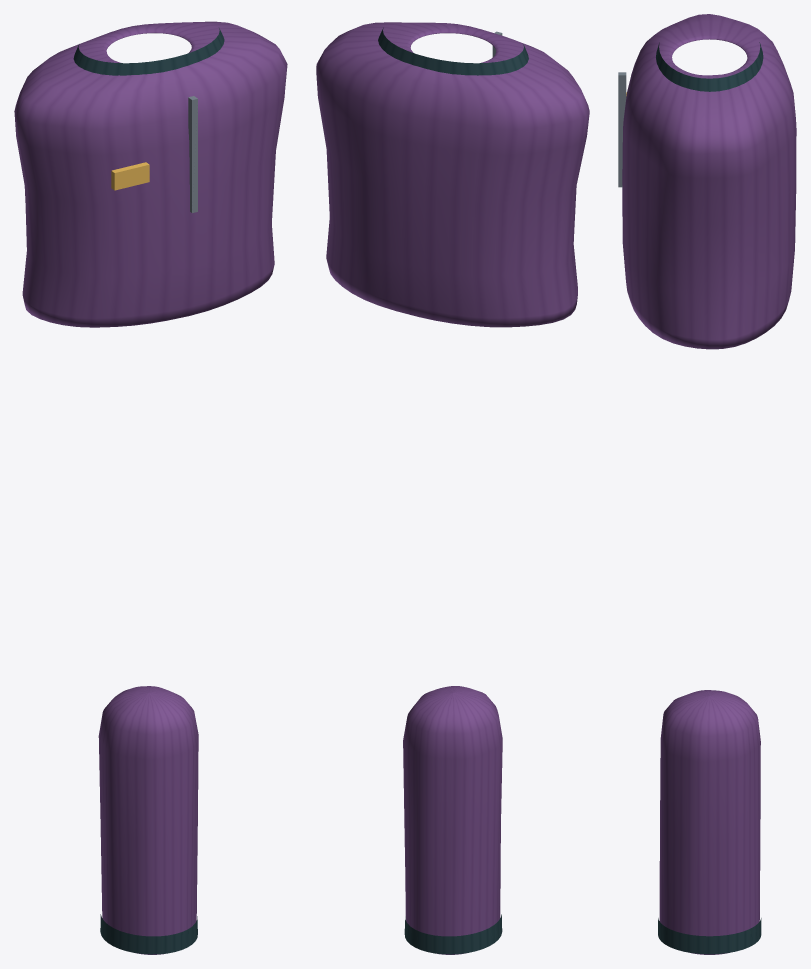
File: summit_quarter_zip.gltf
The picture shows the model from 3 angles, left to right: view 1: azimuth 30°, elevation 25°; view 2: azimuth 150°, elevation 25°; view 3: azimuth 270°, elevation 25°; orthographic projection.
Parts seen in each view (by area): view 1: Torso, SleeveL; view 2: Torso, SleeveL; view 3: Torso, SleeveL.
Boxes of the visible parts, bbox=[...] form: Torso: bbox=[14, 21, 287, 327]; SleeveL: bbox=[98, 686, 198, 954]; Torso: bbox=[316, 22, 589, 327]; SleeveL: bbox=[403, 686, 502, 954]; Torso: bbox=[618, 14, 796, 349]; SleeveL: bbox=[658, 690, 761, 954].
Size of the model in its own units: 0.5276 by 1.75 by 0.3163.
4 materials, 4 textured.
